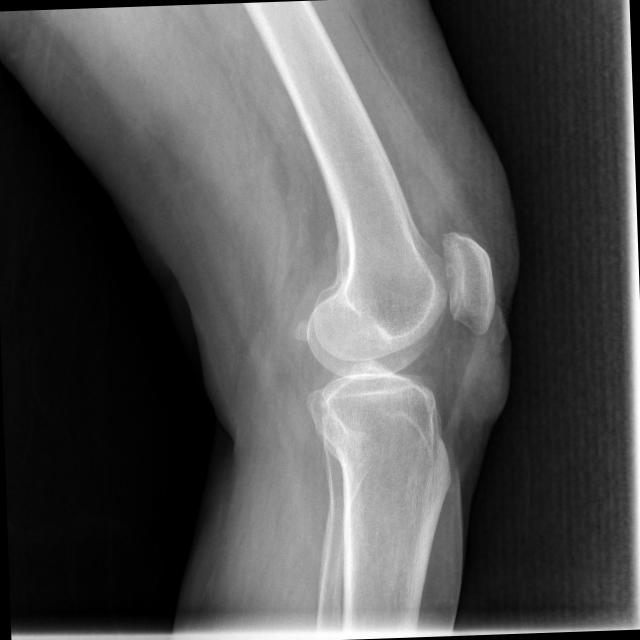Knee: (296, 224, 502, 455)
